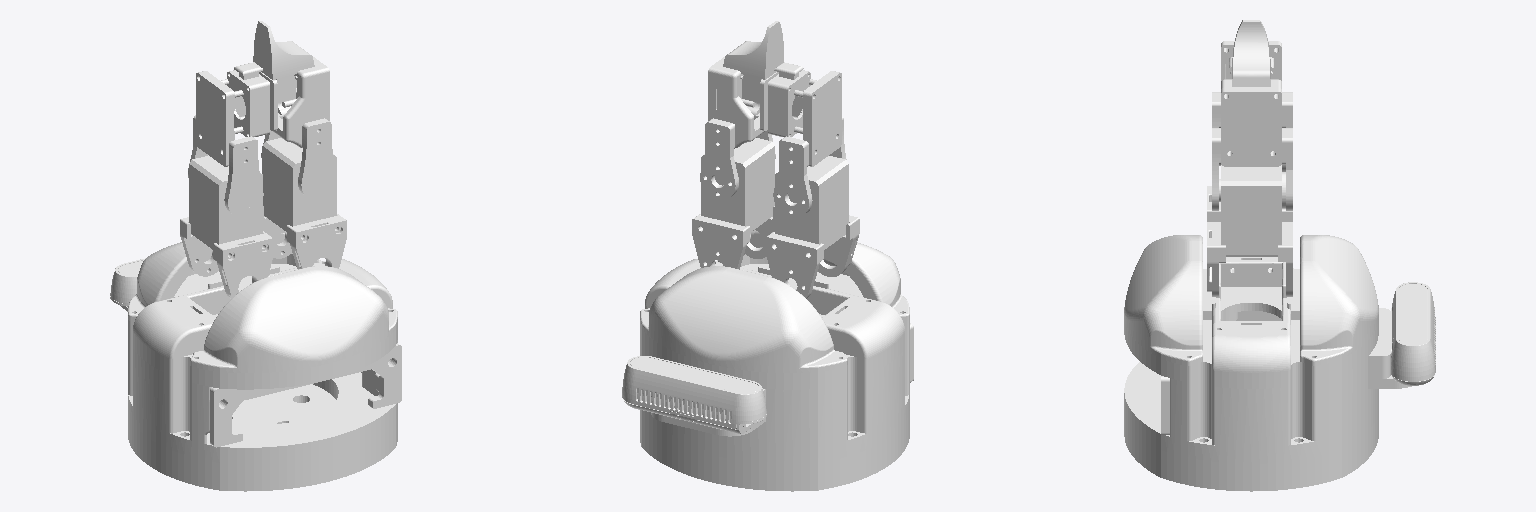
--- Facts derived from the render (not from the file) ---
The picture shows the robot from 3 angles, left to right: view 1: azimuth 30°, elevation 25°; view 2: azimuth 150°, elevation 25°; view 3: azimuth 270°, elevation 25°; orthographic projection.
Robot: URDF — 33 links, 32 joints (4 continuous, 28 fixed); root link base_link; default pose: all joints at 0.
Visible links, largest first — view 1: cable_cover_1, main_housing, base_link, motor_mount, motor_simple-v2-3, motor_simple-v2-2, housing_cover, camera_cover_1, sensor_base-v53-1, cable_cover_2, sensor_connector-v79-1, hinge_servo_idle-v2 (+10 smaller); view 2: cable_cover_2, main_housing, D435_Solid-v2, base_link, motor_mount, motor_simple-v2-2, motor_simple-v2-3, camera_cover_1, cable_cover_1, sensor_base-v53-1, sensor_connector-v79-1, hinge_servo-v6 (+9 smaller); view 3: main_housing, motor_mount, cable_cover_2, cable_cover_1, base_link, motor_simple-v2-3, sensor_base-v53, D435_Solid-v2, camera_cover_2, silicon_tip-v1, camera_link, hinge_servo_idle-v2-1 (+4 smaller).
Link boxes in pixels (bbox=[...]): cable_cover_1: bbox=[190, 266, 397, 372]; main_housing: bbox=[128, 337, 397, 463]; base_link: bbox=[128, 384, 397, 491]; motor_mount: bbox=[128, 264, 397, 389]; motor_simple-v2-3: bbox=[262, 138, 336, 231]; motor_simple-v2-2: bbox=[189, 155, 262, 249]; housing_cover: bbox=[210, 343, 401, 447]; camera_cover_1: bbox=[133, 296, 213, 358]; sensor_base-v53-1: bbox=[196, 71, 243, 166]; cable_cover_2: bbox=[128, 233, 321, 321]; sensor_connector-v79-1: bbox=[273, 67, 320, 147]; hinge_servo_idle-v2: bbox=[213, 231, 273, 298]; cable_cover_2: bbox=[640, 266, 847, 372]; main_housing: bbox=[640, 336, 909, 463]; D435_Solid-v2: bbox=[622, 356, 766, 433]; base_link: bbox=[640, 411, 909, 491]; motor_mount: bbox=[640, 264, 909, 389]; motor_simple-v2-2: bbox=[775, 156, 848, 249]; motor_simple-v2-3: bbox=[701, 138, 774, 232]; camera_cover_1: bbox=[824, 296, 904, 358]; cable_cover_1: bbox=[716, 230, 909, 321]; sensor_base-v53-1: bbox=[794, 71, 841, 166]; sensor_connector-v79-1: bbox=[717, 67, 764, 147]; hinge_servo-v6: bbox=[766, 232, 823, 298]; main_housing: bbox=[1124, 311, 1378, 463]; motor_mount: bbox=[1124, 260, 1378, 388]; cable_cover_2: bbox=[1300, 235, 1378, 365]; cable_cover_1: bbox=[1124, 235, 1202, 365]; base_link: bbox=[1124, 410, 1378, 491]; motor_simple-v2-3: bbox=[1219, 165, 1285, 256]; sensor_base-v53: bbox=[1221, 87, 1281, 166]; D435_Solid-v2: bbox=[1391, 282, 1435, 385]; camera_cover_2: bbox=[1212, 323, 1290, 372]; silicon_tip-v1: bbox=[1232, 20, 1270, 86]; camera_link: bbox=[1368, 308, 1411, 388]; hinge_servo_idle-v2-1: bbox=[1207, 222, 1225, 296].
Bounding box of the posed robot: 0.1499 × 0.1734 × 0.2544 m (x, y, z).
27 mesh visuals loaded from 33 distinct referenced files (27 binary STL); not drawn: 6 (reference not matched to a file when rendering).

The robot description file, URDF, robot "URDF":
<robot name="URDF">
    <material name="white_nylon"><color rgba="1.0 1.0 1.0 1.0" /></material><link name="main_housing">
        <inertial>
            <origin xyz="-0.06498069007999605 0.04156497382801675 0.0185366332349843" rpy="0.0 -0.0 0.0" />
            <mass value="2.1359580147040425" />
            <inertia ixx="0.003689811441674805" iyy="0.005220869244233217" izz="0.008065718013979553" ixy="4.614554376906584e-05" iyz="-0.0002778309934325909" ixz="4.284125486984886e-06" />
        </inertial>
        <visual name="main_housing_visual">
            <origin xyz="-0.11765018000000003 -0.019000000000000045 0.010000000000000005" rpy="0.0 -0.0 0.0" />
            <geometry>
                <mesh filename="package://soft_gripper/URDF/meshes/main_housing.stl" scale="0.001 0.001 0.001" />
            </geometry>
        <material name="white_nylon" /></visual>
        <collision name="main_housing_collision">
            <origin xyz="-0.11765018000000003 -0.019000000000000045 0.010000000000000005" rpy="0.0 -0.0 0.0" />
            <geometry>
                <mesh filename="package://soft_gripper/URDF/meshes/main_housing.stl" scale="0.001 0.001 0.001" />
            </geometry>
        </collision>
    </link>
    <link name="motor_mount">
        <inertial>
            <origin xyz="0.04714476246246596 0.04291296602302067 -0.006515361533439599" rpy="0.0 -0.0 0.0" />
            <mass value="1.0969740639934207" />
            <inertia ixx="0.0016178785301482557" iyy="0.0016152568670021444" izz="0.0031816363021280373" ixy="2.6389696437234387e-06" iyz="-1.0236979949334517e-05" ixz="-6.376420888160805e-07" />
        </inertial>
        <visual name="motor_mount_visual">
            <origin xyz="-0.005000000000000027 0.08600000000000005 0.03599999999999999" rpy="3.141592653589793 -0.0 0.0" />
            <geometry>
                <mesh filename="package://soft_gripper/URDF/meshes/motor_mount.stl" scale="0.001 0.001 0.001" />
            </geometry>
        <material name="white_nylon" /></visual>
        <collision name="motor_mount_collision">
            <origin xyz="-0.005000000000000027 0.08600000000000005 0.03599999999999999" rpy="3.141592653589793 -0.0 0.0" />
            <geometry>
                <mesh filename="package://soft_gripper/URDF/meshes/motor_mount.stl" scale="0.001 0.001 0.001" />
            </geometry>
        </collision>
    </link>
    <link name="jetson_clamp">
        <inertial>
            <origin xyz="-0.030000000000020306 0.00041388104404918916 -0.017450177577564042" rpy="0.0 -0.0 0.0" />
            <mass value="0.18943157410821526" />
            <inertia ixx="1.9784015157741828e-05" iyy="0.0001244680203030208" izz="0.00010715348737438317" ixy="-1.5753683901339205e-18" iyz="-2.35345637609693e-08" ixz="3.440800884062443e-17" />
        </inertial>
        <visual name="jetson_clamp_visual">
            <origin xyz="-0.08199999999999998 -0.08600000000000002 -0.040999999999999995" rpy="0.0 -0.0 0.0" />
            <geometry>
                <mesh filename="package://soft_gripper/URDF/meshes/jetson_clamp.stl" scale="0.001 0.001 0.001" />
            </geometry>
        <material name="white_nylon" /></visual>
        <collision name="jetson_clamp_collision">
            <origin xyz="-0.08199999999999998 -0.08600000000000002 -0.040999999999999995" rpy="0.0 -0.0 0.0" />
            <geometry>
                <mesh filename="package://soft_gripper/URDF/meshes/jetson_clamp.stl" scale="0.001 0.001 0.001" />
            </geometry>
        </collision>
    </link>
    <link name="camera_cover_2">
        <inertial>
            <origin xyz="0.007862553276360807 -0.017978498636894255 0.009221209112893033" rpy="0.0 -0.0 0.0" />
            <mass value="0.04162329590700502" />
            <inertia ixx="1.1080745026072745e-05" iyy="4.5445913448851575e-06" izz="1.3848537660793363e-05" ixy="3.987738066778567e-09" iyz="2.6074654870583814e-09" ixz="5.117172324141351e-07" />
        </inertial>
        <visual name="camera_cover_2_visual">
            <origin xyz="-0.10200000000000001 -0.06350000000000004 -0.046" rpy="0.0 -0.0 0.0" />
            <geometry>
                <mesh filename="package://soft_gripper/URDF/meshes/camera_cover_2.stl" scale="0.001 0.001 0.001" />
            </geometry>
        <material name="white_nylon" /></visual>
        <collision name="camera_cover_2_collision">
            <origin xyz="-0.10200000000000001 -0.06350000000000004 -0.046" rpy="0.0 -0.0 0.0" />
            <geometry>
                <mesh filename="package://soft_gripper/URDF/meshes/camera_cover_2.stl" scale="0.001 0.001 0.001" />
            </geometry>
        </collision>
    </link>
    <link name="cable_cover_1">
        <inertial>
            <origin xyz="0.06275945351745642 0.011149665542192828 -0.019115236627273016" rpy="0.0 -0.0 0.0" />
            <mass value="0.12061737850024641" />
            <inertia ixx="3.992621964223563e-05" iyy="0.00018252391341126695" izz="0.00018533994793659258" ixy="7.1893715772743135e-12" iyz="-6.153945027850957e-06" ixz="-5.0242640264839035e-11" />
        </inertial>
        <visual name="cable_cover_1_visual">
            <origin xyz="0.01075941999999995 0.010698370000000033 0.04599999999999998" rpy="3.141592653589793 -0.0 0.0" />
            <geometry>
                <mesh filename="package://soft_gripper/URDF/meshes/cable_cover_1.stl" scale="0.001 0.001 0.001" />
            </geometry>
        <material name="white_nylon" /></visual>
        <collision name="cable_cover_1_collision">
            <origin xyz="0.01075941999999995 0.010698370000000033 0.04599999999999998" rpy="3.141592653589793 -0.0 0.0" />
            <geometry>
                <mesh filename="package://soft_gripper/URDF/meshes/cable_cover_1.stl" scale="0.001 0.001 0.001" />
            </geometry>
        </collision>
    </link>
    <link name="camera_cover_1">
        <inertial>
            <origin xyz="-0.007857696933831705 0.018000000018938443 -0.009218035612254968" rpy="0.0 -0.0 0.0" />
            <mass value="0.04166870392652819" />
            <inertia ixx="1.1099393810887312e-05" iyy="4.546482910601827e-06" izz="1.3867101906983294e-05" ixy="-3.0980006682720147e-14" iyz="5.417027104693987e-16" ixz="5.111289304996272e-07" />
        </inertial>
        <visual name="camera_cover_1_visual">
            <origin xyz="-0.0020000000000000287 0.06350000000000006 0.046" rpy="3.141592653589793 -0.0 0.0" />
            <geometry>
                <mesh filename="package://soft_gripper/URDF/meshes/camera_cover_1.stl" scale="0.001 0.001 0.001" />
            </geometry>
        <material name="white_nylon" /></visual>
        <collision name="camera_cover_1_collision">
            <origin xyz="-0.0020000000000000287 0.06350000000000006 0.046" rpy="3.141592653589793 -0.0 0.0" />
            <geometry>
                <mesh filename="package://soft_gripper/URDF/meshes/camera_cover_1.stl" scale="0.001 0.001 0.001" />
            </geometry>
        </collision>
    </link>
    <link name="cable_cover_2">
        <inertial>
            <origin xyz="0.06275942685439072 -0.011149673027746365 -0.01911523767999533" rpy="0.0 -0.0 0.0" />
            <mass value="0.12061737110747833" />
            <inertia ixx="3.992608824989071e-05" iyy="0.00018252386760867054" izz="0.0001853397751278507" ixy="4.551342445983728e-11" iyz="6.153960499094384e-06" ixz="-1.0474292386288253e-11" />
        </inertial>
        <visual name="cable_cover_2_visual">
            <origin xyz="0.01075941999999997 0.08030163000000005 0.046" rpy="3.141592653589793 -0.0 0.0" />
            <geometry>
                <mesh filename="package://soft_gripper/URDF/meshes/cable_cover_2.stl" scale="0.001 0.001 0.001" />
            </geometry>
        <material name="white_nylon" /></visual>
        <collision name="cable_cover_2_collision">
            <origin xyz="0.01075941999999997 0.08030163000000005 0.046" rpy="3.141592653589793 -0.0 0.0" />
            <geometry>
                <mesh filename="package://soft_gripper/URDF/meshes/cable_cover_2.stl" scale="0.001 0.001 0.001" />
            </geometry>
        </collision>
    </link>
    <link name="camera_link">
        <inertial>
            <origin xyz="-1.3095036633109992e-14 -0.005100368501430728 -0.010280500778937105" rpy="0.0 -0.0 0.0" />
            <mass value="0.16748363879759612" />
            <inertia ixx="1.5616627381714486e-05" iyy="6.485046656176175e-05" izz="6.0775006141113334e-05" ixy="1.3005627783717361e-17" iyz="-3.397184853043281e-06" ixz="8.77361095879039e-18" />
        </inertial>
        <visual name="camera_link_visual">
            <origin xyz="-0.05200000000000286 -0.028999999999999988 0.11050000000000088" rpy="-1.5707963267948966 -0.0 0.0" />
            <geometry>
                <mesh filename="package://soft_gripper/URDF/meshes/camera_link.stl" scale="0.001 0.001 0.001" />
            </geometry>
        <material name="white_nylon" /></visual>
        <collision name="camera_link_collision">
            <origin xyz="-0.05200000000000286 -0.028999999999999988 0.11050000000000088" rpy="-1.5707963267948966 -0.0 0.0" />
            <geometry>
                <mesh filename="package://soft_gripper/URDF/meshes/camera_link.stl" scale="0.001 0.001 0.001" />
            </geometry>
        </collision>
    </link>
    <link name="housing_cover">
        <inertial>
            <origin xyz="-0.05475449415521548 0.0001674757856527087 -0.0008606153983236808" rpy="0.0 -0.0 0.0" />
            <mass value="0.11541824986287083" />
            <inertia ixx="1.0764883758771263e-05" iyy="0.00016412038191154115" izz="0.00017313334995158514" ixy="3.1715668483183714e-11" iyz="6.707680155077227e-07" ixz="-2.567969404792423e-12" />
        </inertial>
        <visual name="housing_cover_visual">
            <origin xyz="-0.10675448000000003 0.025999999999999992 -4.4408920985006264e-17" rpy="1.5707963267948966 -0.0 0.0" />
            <geometry>
                <mesh filename="package://soft_gripper/URDF/meshes/housing_cover.stl" scale="0.001 0.001 0.001" />
            </geometry>
        <material name="white_nylon" /></visual>
        <collision name="housing_cover_collision">
            <origin xyz="-0.10675448000000003 0.025999999999999992 -4.4408920985006264e-17" rpy="1.5707963267948966 -0.0 0.0" />
            <geometry>
                <mesh filename="package://soft_gripper/URDF/meshes/housing_cover.stl" scale="0.001 0.001 0.001" />
            </geometry>
        </collision>
    </link>
    <link name="base_link">
        <inertial>
            <origin xyz="2.854765250842527e-12 6.784362970066172e-12 0.005777848836336764" rpy="0.0 0.0 0.0" />
            <mass value="1.6075587405059442" />
            <inertia ixx="0.0017903670051976986" iyy="0.0029228466319732305" izz="0.004639798398247289" ixy="1.3319656321458122e-13" iyz="3.0303368251489393e-15" ixz="1.2701516150277892e-15" />
        </inertial>
        <visual name="base_link_visual">
            <origin xyz="0.0 0.0 0.0" rpy="0.0 0.0 0.0" />
            <geometry>
                <mesh filename="package://soft_gripper/URDF/meshes/base_link.stl" scale="0.001 0.001 0.001" />
            </geometry>
        <material name="white_nylon" /></visual>
        <collision name="base_link_collision">
            <origin xyz="0.0 0.0 0.0" rpy="0.0 0.0 0.0" />
            <geometry>
                <mesh filename="package://soft_gripper/URDF/meshes/base_link.stl" scale="0.001 0.001 0.001" />
            </geometry>
        </collision>
    </link>
    <link name="motor_simple-v2">
        <inertial>
            <origin xyz="0.010999999999975701 -0.02050505956666867 0.016976849691165165" rpy="0.0 -0.0 0.0" />
            <mass value="0.35913166569674887" />
            <inertia ixx="0.00010037327997386393" iyy="6.066191219035851e-05" izz="8.649991238078971e-05" ixy="-1.1188966420050406e-16" iyz="-9.556903790783615e-08" ixz="3.0770589391380596e-17" />
        </inertial>
        <visual name="motor_simple-v2_visual">
            <origin xyz="0.02524999999999998 0.003250000000106228 0.034000000000000044" rpy="-1.5707963267948983 -1.1102230246251501e-16 3.141592653589793" />
            <geometry>
                <mesh filename="package://soft_gripper/URDF/meshes/motor_simple-v2.stl" scale="0.001 0.001 0.001" />
            </geometry>
        <material name="white_nylon" /></visual>
        <collision name="motor_simple-v2_collision">
            <origin xyz="0.02524999999999998 0.003250000000106228 0.034000000000000044" rpy="-1.5707963267948983 -1.1102230246251501e-16 3.141592653589793" />
            <geometry>
                <mesh filename="package://soft_gripper/URDF/meshes/motor_simple-v2.stl" scale="0.001 0.001 0.001" />
            </geometry>
        </collision>
    </link>
    <link name="motor_simple-v2-1">
        <inertial>
            <origin xyz="-0.011000000000024173 0.020505059566668617 -0.016976849691165256" rpy="0.0 -0.0 0.0" />
            <mass value="0.35913166569674887" />
            <inertia ixx="0.00010037327997386436" iyy="6.0661912190355987e-05" izz="8.649991238079144e-05" ixy="1.111307226797642e-16" iyz="-9.556903790734191e-08" ixz="-3.096089015728974e-17" />
        </inertial>
        <visual name="motor_simple-v2-1_visual">
            <origin xyz="0.0032500000000001573 -0.003250000000106228 -0.034000000000000204" rpy="1.5707963267948937 1.665334536937719e-16 3.141592653589793" />
            <geometry>
                <mesh filename="package://soft_gripper/URDF/meshes/motor_simple-v2-1.stl" scale="0.001 0.001 0.001" />
            </geometry>
        <material name="white_nylon" /></visual>
        <collision name="motor_simple-v2-1_collision">
            <origin xyz="0.0032500000000001573 -0.003250000000106228 -0.034000000000000204" rpy="1.5707963267948937 1.665334536937719e-16 3.141592653589793" />
            <geometry>
                <mesh filename="package://soft_gripper/URDF/meshes/motor_simple-v2-1.stl" scale="0.001 0.001 0.001" />
            </geometry>
        </collision>
    </link>
    <link name="hinge_servo-v6">
        <inertial>
            <origin xyz="-2.7959856652159943e-14 0.012097148698020989 -0.0014702272596331767" rpy="0.0 4.861730685829017e-63 0.0" />
            <mass value="0.033742310022972066" />
            <inertia ixx="3.524768145216138e-06" iyy="2.77368736335617e-06" izz="6.111680971280066e-06" ixy="-8.131516293641283e-18" iyz="-1.6012084431267731e-07" ixz="-3.9641141931501256e-19" />
        </inertial>
        <visual name="hinge_servo-v6_visual">
            <origin xyz="-7.993605777301127e-17 -1.0611955758577097e-13 2.4424906541753444e-17" rpy="-4.3611210464447495e-31 6.661338147750929e-16 2.449293598294711e-16" />
            <geometry>
                <mesh filename="package://soft_gripper/URDF/meshes/hinge_servo-v6.stl" scale="0.001 0.001 0.001" />
            </geometry>
        <material name="white_nylon" /></visual>
        <collision name="hinge_servo-v6_collision">
            <origin xyz="-7.993605777301127e-17 -1.0611955758577097e-13 2.4424906541753444e-17" rpy="-4.3611210464447495e-31 6.661338147750929e-16 2.449293598294711e-16" />
            <geometry>
                <mesh filename="package://soft_gripper/URDF/meshes/hinge_servo-v6.stl" scale="0.001 0.001 0.001" />
            </geometry>
        </collision>
    </link>
    <link name="motor_simple-v2-2">
        <inertial>
            <origin xyz="-0.012750000000024398 -0.021073150308834793 0.14475505956666873" rpy="0.0 -0.0 0.0" />
            <mass value="0.35913166569674887" />
            <inertia ixx="0.0001003732799738661" iyy="8.649991238078754e-05" izz="6.066191219035851e-05" ixy="3.170444321572846e-17" iyz="9.556903790867641e-08" ixz="1.1275702593849246e-16" />
        </inertial>
        <visual name="motor_simple-v2-2_visual">
            <origin xyz="0.0014999999999998571 -0.004049999999999991 0.12099999999989387" rpy="7.964830597633548e-31 3.673940397442067e-16 -3.1415926535897913" />
            <geometry>
                <mesh filename="package://soft_gripper/URDF/meshes/motor_simple-v2-2.stl" scale="0.001 0.001 0.001" />
            </geometry>
        <material name="white_nylon" /></visual>
        <collision name="motor_simple-v2-2_collision">
            <origin xyz="0.0014999999999998571 -0.004049999999999991 0.12099999999989387" rpy="7.964830597633548e-31 3.673940397442067e-16 -3.1415926535897913" />
            <geometry>
                <mesh filename="package://soft_gripper/URDF/meshes/motor_simple-v2-2.stl" scale="0.001 0.001 0.001" />
            </geometry>
        </collision>
    </link>
    <link name="hinge_servo_idle-v2">
        <inertial>
            <origin xyz="-0.026999999999873583 -0.05489102552894295 0.11463435453787346" rpy="0.0 -0.0 0.0" />
            <mass value="0.04346032509879134" />
            <inertia ixx="4.142405674727916e-06" iyy="7.675009208116105e-06" izz="4.015723082760851e-06" ixy="3.7947076036992655e-18" iyz="-6.364162520702864e-08" ixz="5.827586677109586e-17" />
        </inertial>
        <visual name="hinge_servo_idle-v2_visual">
            <origin xyz="-0.027000000000000128 -0.052049999999999985 0.10199999999989386" rpy="1.5707963267948966 3.6739403974420663e-16 -3.1415926535897927" />
            <geometry>
                <mesh filename="package://soft_gripper/URDF/meshes/hinge_servo_idle-v2.stl" scale="0.001 0.001 0.001" />
            </geometry>
        <material name="white_nylon" /></visual>
        <collision name="hinge_servo_idle-v2_collision">
            <origin xyz="-0.027000000000000128 -0.052049999999999985 0.10199999999989386" rpy="1.5707963267948966 3.6739403974420663e-16 -3.1415926535897927" />
            <geometry>
                <mesh filename="package://soft_gripper/URDF/meshes/hinge_servo_idle-v2.stl" scale="0.001 0.001 0.001" />
            </geometry>
        </collision>
    </link>
    <link name="hinge_servo_idle-v2-1">
        <inertial>
            <origin xyz="-0.0014999999998734027 -0.05489102552894292 0.11463435453787342" rpy="0.0 -0.0 0.0" />
            <mass value="0.04346032509879134" />
            <inertia ixx="4.1424056747278075e-06" iyy="7.675009208115888e-06" izz="4.015723082760844e-06" ixy="3.8014838672773e-18" iyz="-6.36416252070422e-08" ixz="5.828941929825193e-17" />
        </inertial>
        <visual name="hinge_servo_idle-v2-1_visual">
            <origin xyz="-0.0014999999999999504 -0.052049999999999964 0.1019999999998938" rpy="1.5707963267948966 1.224646799147353e-16 -3.141592653589793" />
            <geometry>
                <mesh filename="package://soft_gripper/URDF/meshes/hinge_servo_idle-v2-1.stl" scale="0.001 0.001 0.001" />
            </geometry>
        <material name="white_nylon" /></visual>
        <collision name="hinge_servo_idle-v2-1_collision">
            <origin xyz="-0.0014999999999999504 -0.052049999999999964 0.1019999999998938" rpy="1.5707963267948966 1.224646799147353e-16 -3.141592653589793" />
            <geometry>
                <mesh filename="package://soft_gripper/URDF/meshes/hinge_servo_idle-v2-1.stl" scale="0.001 0.001 0.001" />
            </geometry>
        </collision>
    </link>
    <link name="motor_simple-v2-3">
        <inertial>
            <origin xyz="0.03474999999997581 -0.021073150308834717 0.14475505956666865" rpy="0.0 -0.0 0.0" />
            <mass value="0.35913166569674887" />
            <inertia ixx="0.00010037327997386783" iyy="8.649991238079101e-05" izz="6.066191219035864e-05" ixy="3.113068427308208e-17" iyz="9.556903790860017e-08" ixz="1.1232334506949826e-16" />
        </inertial>
        <visual name="motor_simple-v2-3_visual">
            <origin xyz="0.04900000000000006 -0.004049999999999927 0.1209999999998938" rpy="1.3931710890908336e-30 1.224646799147353e-16 3.141592653589793" />
            <geometry>
                <mesh filename="package://soft_gripper/URDF/meshes/motor_simple-v2-3.stl" scale="0.001 0.001 0.001" />
            </geometry>
        <material name="white_nylon" /></visual>
        <collision name="motor_simple-v2-3_collision">
            <origin xyz="0.04900000000000006 -0.004049999999999927 0.1209999999998938" rpy="1.3931710890908336e-30 1.224646799147353e-16 3.141592653589793" />
            <geometry>
                <mesh filename="package://soft_gripper/URDF/meshes/motor_simple-v2-3.stl" scale="0.001 0.001 0.001" />
            </geometry>
        </collision>
    </link>
    <link name="hinge_servo-v6-1">
        <inertial>
            <origin xyz="-2.7822188997106422e-14 0.012097148698020898 -0.00147022725963327" rpy="0.0 -0.0 0.0" />
            <mass value="0.033742310022972066" />
            <inertia ixx="3.5247681452159753e-06" iyy="2.7736873633561835e-06" izz="6.111680971280012e-06" ixy="-8.17217387510949e-18" iyz="-1.601208443126502e-07" ixz="-4.0318768289304696e-19" />
        </inertial>
        <visual name="hinge_servo-v6-1_visual">
            <origin xyz="5.329070518200751e-17 -1.0620837542774097e-13 -6.661338147750939e-17" rpy="-1.3931710890908336e-30 -1.192767672690443e-30 -2.4651903288163275e-32" />
            <geometry>
                <mesh filename="package://soft_gripper/URDF/meshes/hinge_servo-v6-1.stl" scale="0.001 0.001 0.001" />
            </geometry>
        <material name="white_nylon" /></visual>
        <collision name="hinge_servo-v6-1_collision">
            <origin xyz="5.329070518200751e-17 -1.0620837542774097e-13 -6.661338147750939e-17" rpy="-1.3931710890908336e-30 -1.192767672690443e-30 -2.4651903288163275e-32" />
            <geometry>
                <mesh filename="package://soft_gripper/URDF/meshes/hinge_servo-v6-1.stl" scale="0.001 0.001 0.001" />
            </geometry>
        </collision>
    </link>
    <link name="hinge_finger_idle-v21">
        <inertial>
            <origin xyz="-0.051799999999880345 -0.04984738014011419 0.1803041425814172" rpy="0.0 -0.0 0.0" />
            <mass value="0.0238081034809524" />
            <inertia ixx="4.039917988877791e-06" iyy="4.777529898602941e-06" izz="8.184412898238639e-07" ixy="5.64123942871364e-19" iyz="-6.220717361225033e-08" ixz="3.923456611681919e-17" />
        </inertial>
        <visual name="hinge_finger_idle-v21_visual">
            <origin xyz="-0.05180000000000083 -0.04804999999999986 0.16624999999989373" rpy="1.5707963267948943 6.123233995736764e-16 -3.1415926535897927" />
            <geometry>
                <mesh filename="package://soft_gripper/URDF/meshes/hinge_finger_idle-v21.stl" scale="0.001 0.001 0.001" />
            </geometry>
        <material name="white_nylon" /></visual>
        <collision name="hinge_finger_idle-v21_collision">
            <origin xyz="-0.05180000000000083 -0.04804999999999986 0.16624999999989373" rpy="1.5707963267948943 6.123233995736764e-16 -3.1415926535897927" />
            <geometry>
                <mesh filename="package://soft_gripper/URDF/meshes/hinge_finger_idle-v21.stl" scale="0.001 0.001 0.001" />
            </geometry>
        </collision>
    </link>
    <link name="hinge_finger-v21">
        <inertial>
            <origin xyz="-3.1468161409975437e-14 0.013953238529449657 -0.0015786327621384456" rpy="0.0 -0.0 0.0" />
            <mass value="0.027220258874124357" />
            <inertia ixx="4.804622824006741e-06" iyy="8.696890805635121e-07" izz="5.550218612262623e-06" ixy="-1.0137290312739466e-17" iyz="-1.4964277006405025e-07" ixz="-3.032377951170395e-19" />
        </inertial>
        <visual name="hinge_finger-v21_visual">
            <origin xyz="5.329070518200751e-17 -1.0620837542774097e-13 -6.661338147750939e-17" rpy="-1.3931710890918227e-30 -2.72157012301249e-29 2.449293598294706e-16" />
            <geometry>
                <mesh filename="package://soft_gripper/URDF/meshes/hinge_finger-v21.stl" scale="0.001 0.001 0.001" />
            </geometry>
        <material name="white_nylon" /></visual>
        <collision name="hinge_finger-v21_collision">
            <origin xyz="5.329070518200751e-17 -1.0620837542774097e-13 -6.661338147750939e-17" rpy="-1.3931710890918227e-30 -2.72157012301249e-29 2.449293598294706e-16" />
            <geometry>
                <mesh filename="package://soft_gripper/URDF/meshes/hinge_finger-v21.stl" scale="0.001 0.001 0.001" />
            </geometry>
        </collision>
    </link>
    <link name="hinge_finger_idle-v21-1">
        <inertial>
            <origin xyz="0.029700000000119856 -0.04984738014011406 0.18030414258141722" rpy="0.0 -0.0 0.0" />
            <mass value="0.0238081034809524" />
            <inertia ixx="4.039917988878008e-06" iyy="4.7775298986032664e-06" izz="8.184412898238571e-07" ixy="5.675120746603812e-19" iyz="-6.220717361225033e-08" ixz="3.926167117113133e-17" />
        </inertial>
        <visual name="hinge_finger_idle-v21-1_visual">
            <origin xyz="0.02969999999999936 -0.04804999999999973 0.1662499999998938" rpy="1.5707963267948943 3.673940397442062e-16 -3.141592653589793" />
            <geometry>
                <mesh filename="package://soft_gripper/URDF/meshes/hinge_finger_idle-v21-1.stl" scale="0.001 0.001 0.001" />
            </geometry>
        <material name="white_nylon" /></visual>
        <collision name="hinge_finger_idle-v21-1_collision">
            <origin xyz="0.02969999999999936 -0.04804999999999973 0.1662499999998938" rpy="1.5707963267948943 3.673940397442062e-16 -3.141592653589793" />
            <geometry>
                <mesh filename="package://soft_gripper/URDF/meshes/hinge_finger_idle-v21-1.stl" scale="0.001 0.001 0.001" />
            </geometry>
        </collision>
    </link>
    <link name="hinge_finger-v21-1">
        <inertial>
            <origin xyz="-3.169908779909747e-14 0.013953238529449727 -0.0015786327621383478" rpy="0.0 -0.0 0.0" />
            <mass value="0.027220258874124357" />
            <inertia ixx="4.804622824006958e-06" iyy="8.696890805635121e-07" izz="5.55021861226284e-06" ixy="-1.0123737785583398e-17" iyz="-1.4964277006405025e-07" ixz="-3.066259269060567e-19" />
        </inertial>
        <visual name="hinge_finger-v21-1_visual">
            <origin xyz="-1.7763568394002506e-16 -1.0613732115416497e-13 3.1086244689504386e-17" rpy="-4.948235054248297e-31 6.6613381477507795e-16 4.89858719658942e-16" />
            <geometry>
                <mesh filename="package://soft_gripper/URDF/meshes/hinge_finger-v21-1.stl" scale="0.001 0.001 0.001" />
            </geometry>
        <material name="white_nylon" /></visual>
        <collision name="hinge_finger-v21-1_collision">
            <origin xyz="-1.7763568394002506e-16 -1.0613732115416497e-13 3.1086244689504386e-17" rpy="-4.948235054248297e-31 6.6613381477507795e-16 4.89858719658942e-16" />
            <geometry>
                <mesh filename="package://soft_gripper/URDF/meshes/hinge_finger-v21-1.stl" scale="0.001 0.001 0.001" />
            </geometry>
        </collision>
    </link>
    <link name="sensor_connector-v79">
        <inertial>
            <origin xyz="-0.018900007238659908 -0.023049999999994384 0.19398487831504327" rpy="0.0 -0.0 0.0" />
            <mass value="0.10281690019670692" />
            <inertia ixx="3.5618255693771125e-05" iyy="2.3887736837416816e-05" izz="1.8325945445775466e-05" ixy="9.133529800463519e-19" iyz="-7.794820697107699e-19" ixz="2.1801886152675656e-06" />
        </inertial>
        <visual name="sensor_connector-v79_visual">
            <origin xyz="-0.015750000000000187 -0.011999999999999917 0.2172499999998939" rpy="-1.5707963267948961 1.4191546488686791e-15 -1.570796326794896" />
            <geometry>
                <mesh filename="package://soft_gripper/URDF/meshes/sensor_connector-v79.stl" scale="0.001 0.001 0.001" />
            </geometry>
        <material name="white_nylon" /></visual>
        <collision name="sensor_connector-v79_collision">
            <origin xyz="-0.015750000000000187 -0.011999999999999917 0.2172499999998939" rpy="-1.5707963267948961 1.4191546488686791e-15 -1.570796326794896" />
            <geometry>
                <mesh filename="package://soft_gripper/URDF/meshes/sensor_connector-v79.stl" scale="0.001 0.001 0.001" />
            </geometry>
        </collision>
    </link>
    <link name="sensor_connector-v79-1">
        <inertial>
            <origin xyz="0.018900007238659745 -0.02305000000000544 0.19398487831504319" rpy="0.0 -0.0 0.0" />
            <mass value="0.10281690019670692" />
            <inertia ixx="3.5618255693771125e-05" iyy="2.388773683741855e-05" izz="1.8325945445775486e-05" ixy="8.758453023507474e-19" iyz="8.976431658527448e-19" ixz="-2.180188615267674e-06" />
        </inertial>
        <visual name="sensor_connector-v79-1_visual">
            <origin xyz="0.015749999999999993 -0.03409999999999992 0.21724999999989375" rpy="-1.570796326794897 -8.881784197001247e-16 1.5707963267948966" />
            <geometry>
                <mesh filename="package://soft_gripper/URDF/meshes/sensor_connector-v79-1.stl" scale="0.001 0.001 0.001" />
            </geometry>
        <material name="white_nylon" /></visual>
        <collision name="sensor_connector-v79-1_collision">
            <origin xyz="0.015749999999999993 -0.03409999999999992 0.21724999999989375" rpy="-1.570796326794897 -8.881784197001247e-16 1.5707963267948966" />
            <geometry>
                <mesh filename="package://soft_gripper/URDF/meshes/sensor_connector-v79-1.stl" scale="0.001 0.001 0.001" />
            </geometry>
        </collision>
    </link>
    <link name="sensor_base-v53">
        <inertial>
            <origin xyz="0.00265984933398312 0.01150110831956805 0.014527386737134726" rpy="0.0 -0.0 0.0" />
            <mass value="0.008830801300927454" />
            <inertia ixx="2.543899379476416e-06" iyy="1.722794300981008e-06" izz="9.168321341904731e-07" ixy="-4.330580862270804e-09" iyz="2.3888480914732505e-08" ixz="9.97084163879022e-09" />
        </inertial>
        <visual name="sensor_base-v53_visual">
            <origin xyz="0.0057000000000000115 0.012000000000000136 0.019249999999893817" rpy="-1.570796326794897 -8.881784197001248e-16 1.5707963267948968" />
            <geometry>
                <mesh filename="package://soft_gripper/URDF/meshes/sensor_base-v53.stl" scale="0.001 0.001 0.001" />
            </geometry>
        <material name="white_nylon" /></visual>
        <collision name="sensor_base-v53_collision">
            <origin xyz="0.0057000000000000115 0.012000000000000136 0.019249999999893817" rpy="-1.570796326794897 -8.881784197001248e-16 1.5707963267948968" />
            <geometry>
                <mesh filename="package://soft_gripper/URDF/meshes/sensor_base-v53.stl" scale="0.001 0.001 0.001" />
            </geometry>
        </collision>
    </link>
    <link name="sensor_base-v53-1">
        <inertial>
            <origin xyz="-0.0026598493339832973 0.012498891680432144 0.014527386737134726" rpy="0.0 -0.0 0.0" />
            <mass value="0.008830801300927454" />
            <inertia ixx="2.543899379476417e-06" iyy="1.722794300981008e-06" izz="9.16832134190475e-07" ixy="-4.330580862269918e-09" iyz="-2.3888480914730814e-08" ixz="-9.970841638797e-09" />
        </inertial>
        <visual name="sensor_base-v53-1_visual">
            <origin xyz="-0.005700000000000185 0.012000000000000047 0.019249999999893817" rpy="-1.5707963267948961 1.419154648868679e-15 -1.5707963267948954" />
            <geometry>
                <mesh filename="package://soft_gripper/URDF/meshes/sensor_base-v53-1.stl" scale="0.001 0.001 0.001" />
            </geometry>
        <material name="white_nylon" /></visual>
        <collision name="sensor_base-v53-1_collision">
            <origin xyz="-0.005700000000000185 0.012000000000000047 0.019249999999893817" rpy="-1.5707963267948961 1.419154648868679e-15 -1.5707963267948954" />
            <geometry>
                <mesh filename="package://soft_gripper/URDF/meshes/sensor_base-v53-1.stl" scale="0.001 0.001 0.001" />
            </geometry>
        </collision>
    </link>
    <link name="sensor_shell_v3-v35">
        <inertial>
            <origin xyz="0.005550792874894861 -0.010750000000110537 -0.01652342500144375" rpy="0.0 -0.0 0.0" />
            <mass value="0.0316881520307166" />
            <inertia ixx="7.4929256351683425e-06" iyy="5.532563195049774e-06" izz="2.9859012144997427e-06" ixy="-1.5929516673023636e-17" iyz="7.995620445166171e-18" ixz="7.558554972096284e-08" />
        </inertial>
        <visual name="sensor_shell_v3-v35_visual">
            <origin xyz="0.0019999999999998396 -7.327471962526034e-17 1.0622613899613499e-13" rpy="-1.570796326794897 1.2966899689539438e-15 -1.5707963267948974" />
            <geometry>
                <mesh filename="package://soft_gripper/URDF/meshes/sensor_shell_v3-v35.stl" scale="0.001 0.001 0.001" />
            </geometry>
        <material name="white_nylon" /></visual>
        <collision name="sensor_shell_v3-v35_collision">
            <origin xyz="0.0019999999999998396 -7.327471962526034e-17 1.0622613899613499e-13" rpy="-1.570796326794897 1.2966899689539438e-15 -1.5707963267948974" />
            <geometry>
                <mesh filename="package://soft_gripper/URDF/meshes/sensor_shell_v3-v35.stl" scale="0.001 0.001 0.001" />
            </geometry>
        </collision>
    </link>
    <link name="sensor_shell_v3-v35-1">
        <inertial>
            <origin xyz="-0.00555079287489513 0.010750000000110387 -0.016523425001443853" rpy="0.0 -0.0 0.0" />
            <mass value="0.0316881520307166" />
            <inertia ixx="7.492925635168558e-06" iyy="5.532563195049991e-06" izz="2.9859012144997906e-06" ixy="-1.5921258101787903e-17" iyz="-7.954645226342743e-18" ixz="-7.558554972094927e-08" />
        </inertial>
        <visual name="sensor_shell_v3-v35-1_visual">
            <origin xyz="-0.002000000000000073 -7.327471962526034e-17 1.0611955758577097e-13" rpy="-1.5707963267948963 -1.01064309961486e-15 1.5707963267948963" />
            <geometry>
                <mesh filename="package://soft_gripper/URDF/meshes/sensor_shell_v3-v35-1.stl" scale="0.001 0.001 0.001" />
            </geometry>
        <material name="white_nylon" /></visual>
        <collision name="sensor_shell_v3-v35-1_collision">
            <origin xyz="-0.002000000000000073 -7.327471962526034e-17 1.0611955758577097e-13" rpy="-1.5707963267948963 -1.01064309961486e-15 1.5707963267948963" />
            <geometry>
                <mesh filename="package://soft_gripper/URDF/meshes/sensor_shell_v3-v35-1.stl" scale="0.001 0.001 0.001" />
            </geometry>
        </collision>
    </link>
    <link name="silicon_tip-v1">
        <inertial>
            <origin xyz="0.008643874094177235 6.423939490395395e-09 -0.00318271510888376" rpy="0.0 -0.0 0.0" />
            <mass value="0.055939025066378587" />
            <inertia ixx="5.4776451999698705e-06" iyy="5.302191369042572e-06" izz="3.997394100619268e-06" ixy="-2.441054045215703e-12" iyz="-9.13272811719704e-14" ixz="1.1064797279538804e-06" />
        </inertial>
        <visual name="silicon_tip-v1_visual">
            <origin xyz="-1.0619061185934697e-13 0.010750000018250256 -0.013707843258350855" rpy="-1.570796326794897 -1.7531121916738964e-16 -1.5707963267948957" />
            <geometry>
                <mesh filename="package://soft_gripper/URDF/meshes/silicon_tip-v1.stl" scale="0.001 0.001 0.001" />
            </geometry>
        <material name="white_nylon" /></visual>
        <collision name="silicon_tip-v1_collision">
            <origin xyz="-1.0619061185934697e-13 0.010750000018250256 -0.013707843258350855" rpy="-1.570796326794897 -1.7531121916738964e-16 -1.5707963267948957" />
            <geometry>
                <mesh filename="package://soft_gripper/URDF/meshes/silicon_tip-v1.stl" scale="0.001 0.001 0.001" />
            </geometry>
        </collision>
    </link>
    <link name="silicon_tip-v1-1">
        <inertial>
            <origin xyz="0.008643874094177271 -6.423939501410889e-09 -0.006017284891116544" rpy="0.0 -0.0 0.0" />
            <mass value="0.055939025066378587" />
            <inertia ixx="5.477645199969859e-06" iyy="5.302191369042138e-06" izz="3.997394100619701e-06" ixy="2.441054058450593e-12" iyz="-9.132728492075293e-14" ixz="-1.1064797279539346e-06" />
        </inertial>
        <visual name="silicon_tip-v1-1_visual">
            <origin xyz="-1.0615508472255896e-13 -0.01075000001825031 0.004507843258350572" rpy="1.5707963267948981 -6.491393309164016e-16 1.570796326794898" />
            <geometry>
                <mesh filename="package://soft_gripper/URDF/meshes/silicon_tip-v1-1.stl" scale="0.001 0.001 0.001" />
            </geometry>
        <material name="white_nylon" /></visual>
        <collision name="silicon_tip-v1-1_collision">
            <origin xyz="-1.0615508472255896e-13 -0.01075000001825031 0.004507843258350572" rpy="1.5707963267948981 -6.491393309164016e-16 1.570796326794898" />
            <geometry>
                <mesh filename="package://soft_gripper/URDF/meshes/silicon_tip-v1-1.stl" scale="0.001 0.001 0.001" />
            </geometry>
        </collision>
    </link>
    <link name="black_gel_new-v5">
        <inertial>
            <origin xyz="0.014249999999893924 5.976989736478089e-17 -0.0018635966535490648" rpy="0.0 -0.0 0.0" />
            <mass value="0.0007700994432039112" />
            <inertia ixx="4.862487557955659e-08" iyy="7.643313431267453e-08" izz="1.2436317872587682e-07" ixy="3.110199103199384e-22" iyz="-4.493594054208967e-23" ixz="-2.6469779601696915e-23" />
        </inertial>
        <visual name="black_gel_new-v5_visual">
            <origin xyz="0.014249999999894918 -7.495393195000588e-16 -0.0019999999999998457" rpy="8.341765016872616e-16 -4.286263797015726e-16 -2.1308664706412056e-15" />
            <geometry>
                <mesh filename="package://soft_gripper/URDF/meshes/black_gel_new-v5.stl" scale="0.001 0.001 0.001" />
            </geometry>
        <material name="white_nylon" /></visual>
        <collision name="black_gel_new-v5_collision">
            <origin xyz="0.014249999999894918 -7.495393195000588e-16 -0.0019999999999998457" rpy="8.341765016872616e-16 -4.286263797015726e-16 -2.1308664706412056e-15" />
            <geometry>
                <mesh filename="package://soft_gripper/URDF/meshes/black_gel_new-v5.stl" scale="0.001 0.001 0.001" />
            </geometry>
        </collision>
    </link>
    <link name="black_gel_new-v5-1">
        <inertial>
            <origin xyz="0.014249999999893924 6.54164222790854e-17 0.001863596653549293" rpy="0.0 -0.0 0.0" />
            <mass value="0.0007700994432039112" />
            <inertia ixx="4.862487557955658e-08" iyy="7.643313431267453e-08" izz="1.2436317872587682e-07" ixy="-2.2499312661442353e-22" iyz="-1.5076659133486043e-23" ixz="-1.3234889800848443e-23" />
        </inertial>
        <visual name="black_gel_new-v5-1_visual">
            <origin xyz="0.014249999999894918 8.74812375317724e-16 0.0020000000000000738" rpy="-3.141592653589793 -4.286263797018941e-16 -1.0106430998224172e-15" />
            <geometry>
                <mesh filename="package://soft_gripper/URDF/meshes/black_gel_new-v5-1.stl" scale="0.001 0.001 0.001" />
            </geometry>
        <material name="white_nylon" /></visual>
        <collision name="black_gel_new-v5-1_collision">
            <origin xyz="0.014249999999894918 8.74812375317724e-16 0.0020000000000000738" rpy="-3.141592653589793 -4.286263797018941e-16 -1.0106430998224172e-15" />
            <geometry>
                <mesh filename="package://soft_gripper/URDF/meshes/black_gel_new-v5-1.stl" scale="0.001 0.001 0.001" />
            </geometry>
        </collision>
    </link>
    <link name="D435_Solid-v2">
        <inertial>
            <origin xyz="-0.021387631051720826 -2.7969539090761942e-05 0.012450337454895957" rpy="0.0 -0.0 0.0" />
            <mass value="0.35928853728306875" />
            <inertia ixx="3.257844840842943e-05" iyy="0.00021892457710509234" izz="0.00021659474897241064" ixy="-1.1006348351996537e-08" iyz="5.779561108995232e-08" ixz="3.2204266787050153e-06" />
        </inertial>
        <visual name="D435_Solid-v2_visual">
            <origin xyz="-0.022499999999999402 -1.758593271006248e-15 0.025050000000000017" rpy="3.002818968148797e-16 1.4814801226269541e-31 0.0" />
            <geometry>
                <mesh filename="package://soft_gripper/URDF/meshes/D435_Solid-v2.stl" scale="0.001 0.001 0.001" />
            </geometry>
        <material name="white_nylon" /></visual>
        <collision name="D435_Solid-v2_collision">
            <origin xyz="-0.022499999999999402 -1.758593271006248e-15 0.025050000000000017" rpy="3.002818968148797e-16 1.4814801226269541e-31 0.0" />
            <geometry>
                <mesh filename="package://soft_gripper/URDF/meshes/D435_Solid-v2.stl" scale="0.001 0.001 0.001" />
            </geometry>
        </collision>
    </link>
    <joint name="base_link_Rigid-5" type="fixed">
        <origin xyz="0.06565018 -0.0265 0.013999999999999999" rpy="0.0 -0.0 0.0" />
        <parent link="base_link" />
        <child link="main_housing" />
    </joint>
    <joint name="main_housing_Rigid-6" type="fixed">
        <origin xyz="-0.010895700000000001 -0.019 0.036000000000000004" rpy="-1.5707963267948966 -0.0 0.0" />
        <parent link="main_housing" />
        <child link="housing_cover" />
    </joint>
    <joint name="main_housing_Rigid-7" type="fixed">
        <origin xyz="-0.11265018000000002 0.06699999999999999 0.046" rpy="3.141592653589793 -0.0 0.0" />
        <parent link="main_housing" />
        <child link="motor_mount" />
    </joint>
    <joint name="main_housing_Rigid-8" type="fixed">
        <origin xyz="-0.06565018 0.09150000000000001 0.039" rpy="1.5707963267948966 -0.0 0.0" />
        <parent link="main_housing" />
        <child link="camera_link" />
    </joint>
    <joint name="motor_mount_Rigid-9" type="fixed">
        <origin xyz="0.077 0.0 -0.005" rpy="3.141592653589793 -0.0 0.0" />
        <parent link="motor_mount" />
        <child link="jetson_clamp" />
    </joint>
    <joint name="motor_mount_Rigid-10" type="fixed">
        <origin xyz="-0.0029999999999999983 0.0225 -0.01" rpy="0.0 -0.0 0.0" />
        <parent link="motor_mount" />
        <child link="camera_cover_1" />
    </joint>
    <joint name="motor_mount_Rigid-11" type="fixed">
        <origin xyz="0.09699999999999999 0.0225 -0.01" rpy="3.141592653589793 -0.0 0.0" />
        <parent link="motor_mount" />
        <child link="camera_cover_2" />
    </joint>
    <joint name="motor_mount_Rigid-12" type="fixed">
        <origin xyz="-0.015759419999999996 0.005698369999999997 -0.01" rpy="0.0 -0.0 0.0" />
        <parent link="motor_mount" />
        <child link="cable_cover_2" />
    </joint>
    <joint name="motor_mount_Rigid-13" type="fixed">
        <origin xyz="-0.015759419999999996 0.07530163 -0.01" rpy="0.0 -0.0 0.0" />
        <parent link="motor_mount" />
        <child link="cable_cover_1" />
    </joint>
    <joint name="motor_mount_Rigid-14" type="fixed">
        <origin xyz="0.08175 0.05755 -0.013250000000000001" rpy="-1.5707963267948966 -0.0 0.0" />
        <parent link="motor_mount" />
        <child link="motor_simple-v2-1" />
    </joint>
    <joint name="motor_mount_Rigid-15" type="fixed">
        <origin xyz="0.01225 0.05755 -0.013250000000000001" rpy="1.5707963267948966 -0.0 0.0" />
        <parent link="motor_mount" />
        <child link="motor_simple-v2" />
    </joint>
    <joint name="hinge_servo-v6-1_Rigid-18" type="fixed">
        <origin xyz="-0.03475 -0.10325000000000001 -0.0020500000000000006" rpy="-1.5707963267948966 -9.476314858925413e-33 0.0" />
        <parent link="hinge_servo-v6-1" />
        <child link="motor_simple-v2-3" />
    </joint>
    <joint name="hinge_servo-v6_Rigid-19" type="fixed">
        <origin xyz="0.01275 -0.10325000000000001 -0.0020500000000000006" rpy="-1.5707963267948966 5.596516932297671e-33 2.465190328815662e-32" />
        <parent link="hinge_servo-v6" />
        <child link="motor_simple-v2-2" />
    </joint>
    <joint name="motor_simple-v2-3_Rigid-20" type="fixed">
        <origin xyz="0.03625 0.012999999999999998 0.00125" rpy="0.0 -0.0 0.0" />
        <parent link="motor_simple-v2-3" />
        <child link="hinge_servo_idle-v2-1" />
    </joint>
    <joint name="motor_simple-v2-2_Rigid-21" type="fixed">
        <origin xyz="0.01425 0.012999999999999998 0.00125" rpy="0.0 -0.0 0.0" />
        <parent link="motor_simple-v2-2" />
        <child link="hinge_servo_idle-v2" />
    </joint>
    <joint name="motor_simple-v2_Revolute-22" type="continuous">
        <origin xyz="0.011000000000000001 -0.032 0.036000000000000004" rpy="3.141592653589793 5.596516932297671e-33 2.465190328815662e-32" />
        <parent link="motor_simple-v2" />
        <child link="hinge_servo-v6" />
        <axis xyz="-5.596516932297671e-33 1.9721522630525295e-31 -1.0" />
    </joint>
    <joint name="motor_simple-v2-1_Revolute-23" type="continuous">
        <origin xyz="-0.010999999999999975 0.032 -0.036000000000000004" rpy="0.0 9.476314858925413e-33 0.0" />
        <parent link="motor_simple-v2-1" />
        <child link="hinge_servo-v6-1" />
        <axis xyz="9.476314858925413e-33 0.0 -1.0" />
    </joint>
    <joint name="motor_simple-v2-2_Revolute-24" type="continuous">
        <origin xyz="-0.01275 -0.0020500000000000006 0.15625" rpy="1.5707963267948966 -0.0 -4.8170997357650804e-32" />
        <parent link="motor_simple-v2-2" />
        <child link="hinge_finger-v21-1" />
        <axis xyz="-4.8170997357650804e-32 -2.465190328815662e-32 -1.0" />
    </joint>
    <joint name="motor_simple-v2-3_Revolute-25" type="continuous">
        <origin xyz="0.03475 -0.0020500000000000006 0.15625" rpy="1.5707963267948966 -0.0 4.548056548630036e-48" />
        <parent link="motor_simple-v2-3" />
        <child link="hinge_finger-v21" />
        <axis xyz="4.548056548630036e-48 0.0 -1.0" />
    </joint>
    <joint name="hinge_finger-v21_Rigid-26" type="fixed">
        <origin xyz="-0.02375 -0.15625 -0.004049999999999998" rpy="-1.5707963267948966 -4.548056548630036e-48 0.0" />
        <parent link="hinge_finger-v21" />
        <child link="sensor_connector-v79-1" />
    </joint>
    <joint name="hinge_finger-v21-1_Rigid-27" type="fixed">
        <origin xyz="0.02375 -0.15625 -0.004049999999999998" rpy="-1.5707963267948966 4.8170997357650804e-32 0.0" />
        <parent link="hinge_finger-v21-1" />
        <child link="sensor_connector-v79" />
    </joint>
    <joint name="sensor_connector-v79_Rigid-28" type="fixed">
        <origin xyz="0.028050000000000002 0.007000000000000002 -0.01" rpy="0.0 -0.0 0.0" />
        <parent link="sensor_connector-v79" />
        <child link="hinge_finger_idle-v21" />
    </joint>
    <joint name="sensor_connector-v79-1_Rigid-29" type="fixed">
        <origin xyz="-0.0059499999999999996 0.007000000000000002 -0.01" rpy="0.0 -0.0 0.0" />
        <parent link="sensor_connector-v79-1" />
        <child link="hinge_finger_idle-v21-1" />
    </joint>
    <joint name="sensor_connector-v79_Rigid-30" type="fixed">
        <origin xyz="-0.02775 -0.03505 0.18325" rpy="0.0 -4.444724221904288e-32 0.0" />
        <parent link="sensor_connector-v79" />
        <child link="sensor_base-v53-1" />
    </joint>
    <joint name="sensor_connector-v79-1_Rigid-31" type="fixed">
        <origin xyz="0.02775 -0.03505 0.18325" rpy="1.97215226305253e-31 -0.0 0.0" />
        <parent link="sensor_connector-v79-1" />
        <child link="sensor_base-v53" />
    </joint>
    <joint name="sensor_connector-v79_Rigid-32" type="fixed">
        <origin xyz="-0.01575 -0.0338 0.18895" rpy="3.141592653589793 -4.444724221904288e-32 0.0" />
        <parent link="sensor_connector-v79" />
        <child link="sensor_shell_v3-v35" />
    </joint>
    <joint name="sensor_connector-v79-1_Rigid-33" type="fixed">
        <origin xyz="0.01575 -0.012299999999999998 0.18895" rpy="-3.141592653589793 -0.0 0.0" />
        <parent link="sensor_connector-v79-1" />
        <child link="sensor_shell_v3-v35-1" />
    </joint>
    <joint name="sensor_shell_v3-v35_Rigid-34" type="fixed">
        <origin xyz="0.013199999999999998 -0.010750000000000003 0.0" rpy="-3.141592653589793 1.5707963267948966 0" />
        <parent link="sensor_shell_v3-v35" />
        <child link="black_gel_new-v5" />
    </joint>
    <joint name="sensor_shell_v3-v35-1_Rigid-35" type="fixed">
        <origin xyz="-0.013200000000000003 0.01075 0.0" rpy="-3.141592653589793 1.5707963267948966 0" />
        <parent link="sensor_shell_v3-v35-1" />
        <child link="black_gel_new-v5-1" />
    </joint>
    <joint name="sensor_shell_v3-v35_Rigid-36" type="fixed">
        <origin xyz="0.0112 -0.010750000000000003 -0.030500000000000006" rpy="-0.0 1.5707963267948966 0" />
        <parent link="sensor_shell_v3-v35" />
        <child link="silicon_tip-v1-1" />
    </joint>
    <joint name="sensor_shell_v3-v35-1_Rigid-37" type="fixed">
        <origin xyz="-0.0020000000000000018 0.01075 -0.030500000000000006" rpy="4.829907568021203e-64 1.5707963267948966 0" />
        <parent link="sensor_shell_v3-v35-1" />
        <child link="silicon_tip-v1" />
    </joint>
    <joint name="camera_link_Rigid-38" type="fixed">
        <origin xyz="0.02250000000000064 -0.007000000000000002 -0.025" rpy="-1.5707963267948966 -0.0 0.0" />
        <parent link="camera_link" />
        <child link="D435_Solid-v2" />
    </joint>
</robot>
